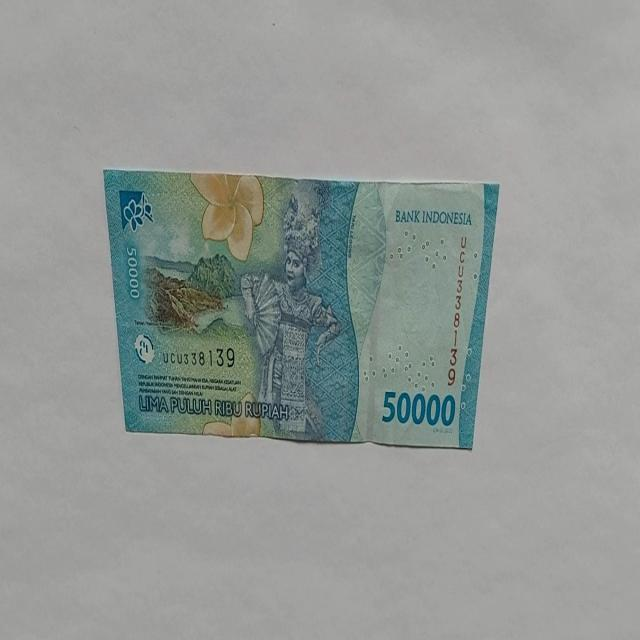lima puluh ribu rupiah: (102, 169, 500, 450)
